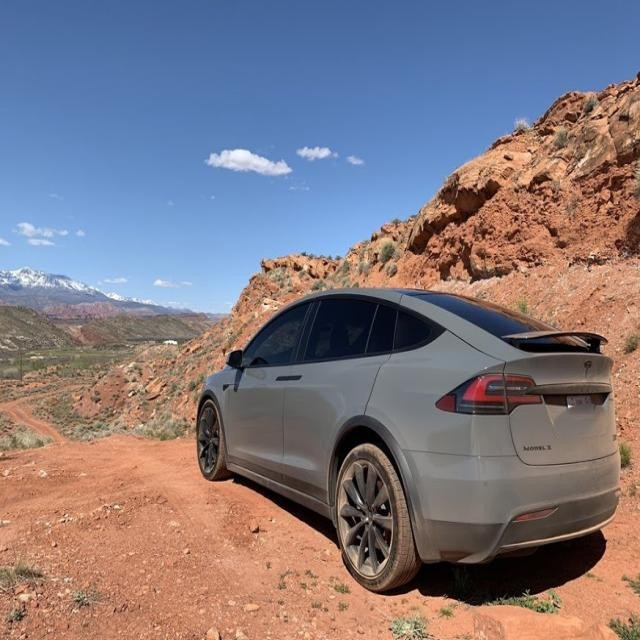car: (196, 284, 618, 596)
